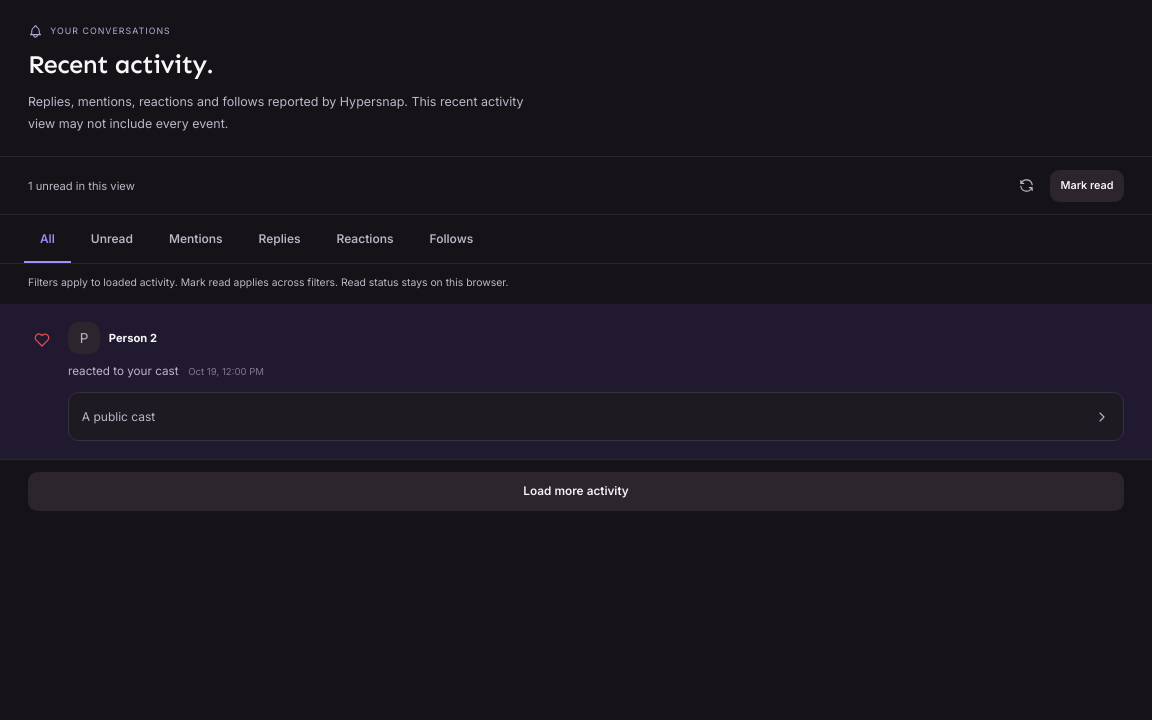
isolated feature panels › retries a failed refresh from the beginning instead of the previous continuation
Click the button named "Refresh activity". click: (1026, 186)
box: [1007, 170, 1045, 202]
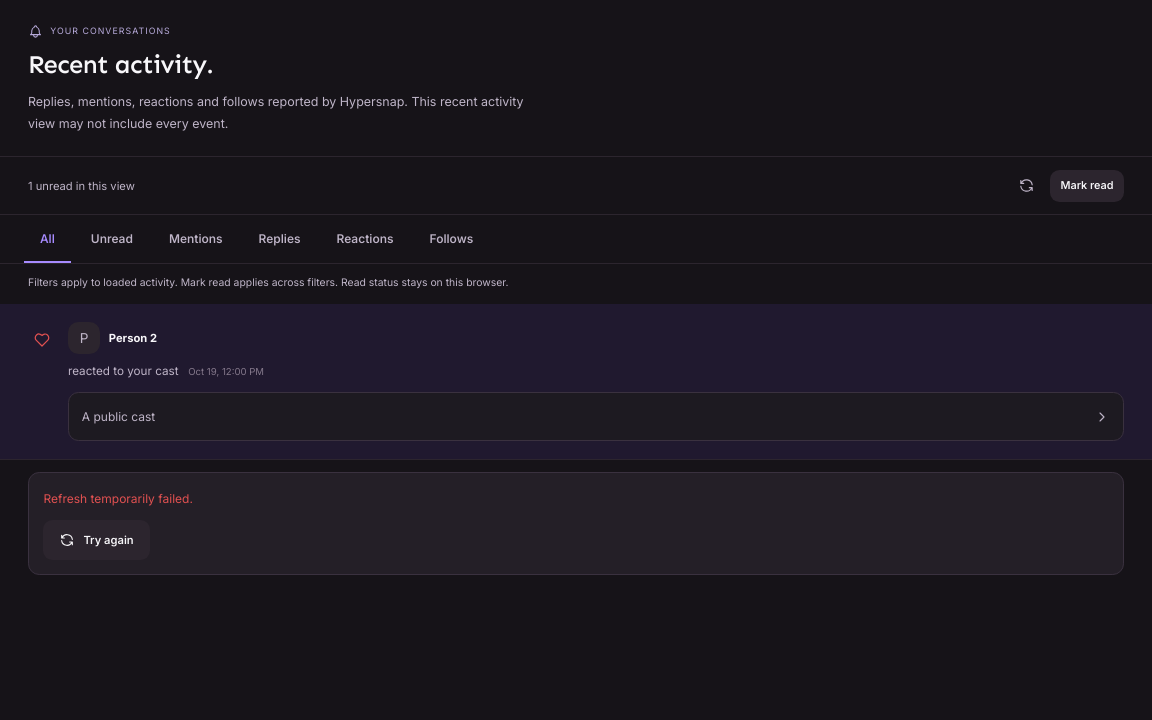
Click the button "Try again". click: (96, 540)
box: [43, 520, 150, 560]
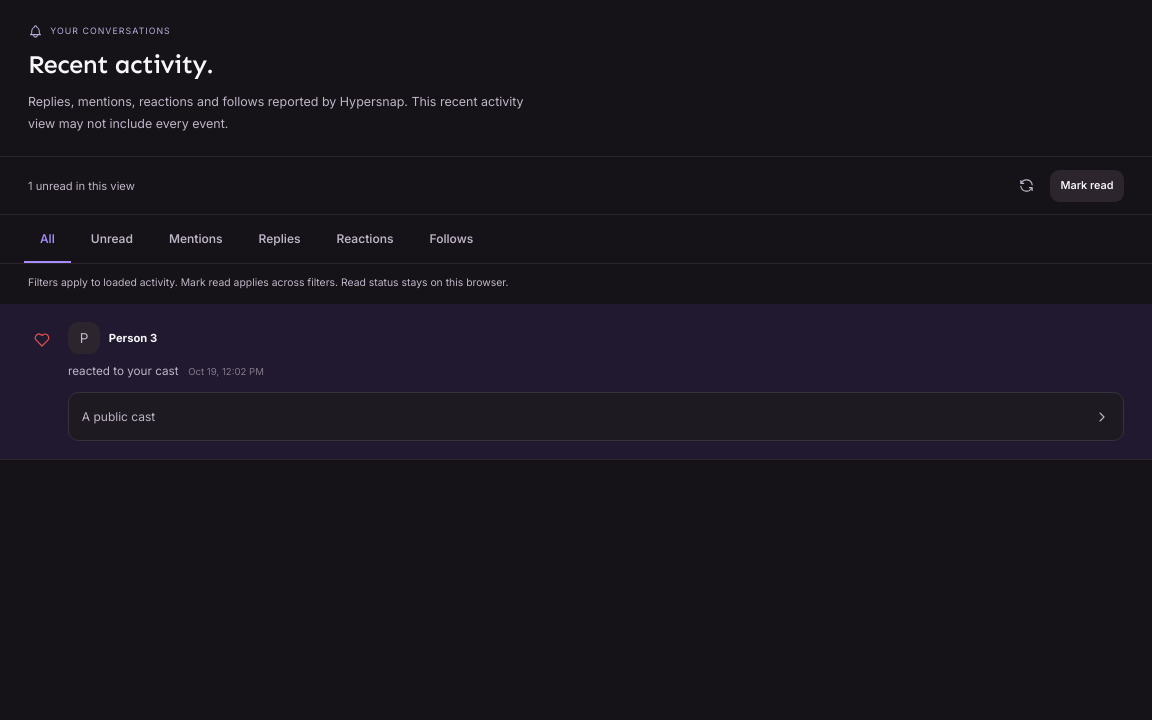
Check: the link to "/profile/3" is shown, box [68, 322, 157, 354]
Check: the link to "/profile/2" is gone
